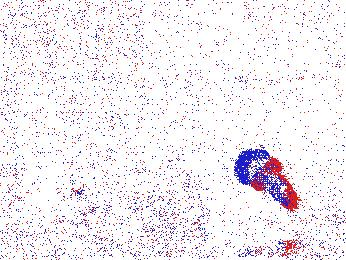flame jellyfish: (236, 148, 298, 208), (59, 184, 110, 237), (94, 184, 129, 222)
